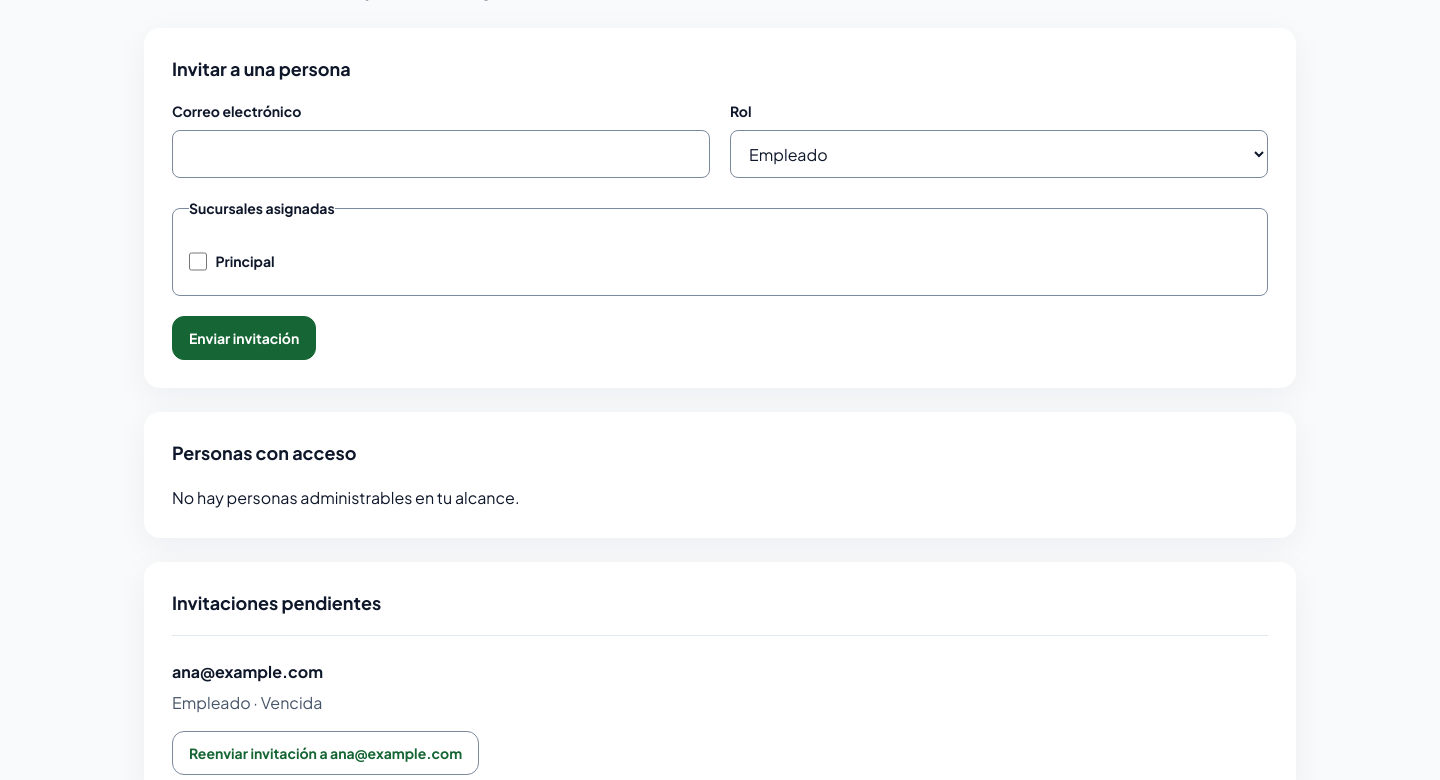
Scenario: lets a manager resend an expired invitation and announces the old-link invalidation
(page scrolled)
Expected: the text "Empleado · Vencida" is shown, x1=172 y1=692 x2=322 y2=713
Step 1. Click the button "Reenviar invitación a ana@example.com" → (326,753), box x1=172 y1=731 x2=479 y2=775
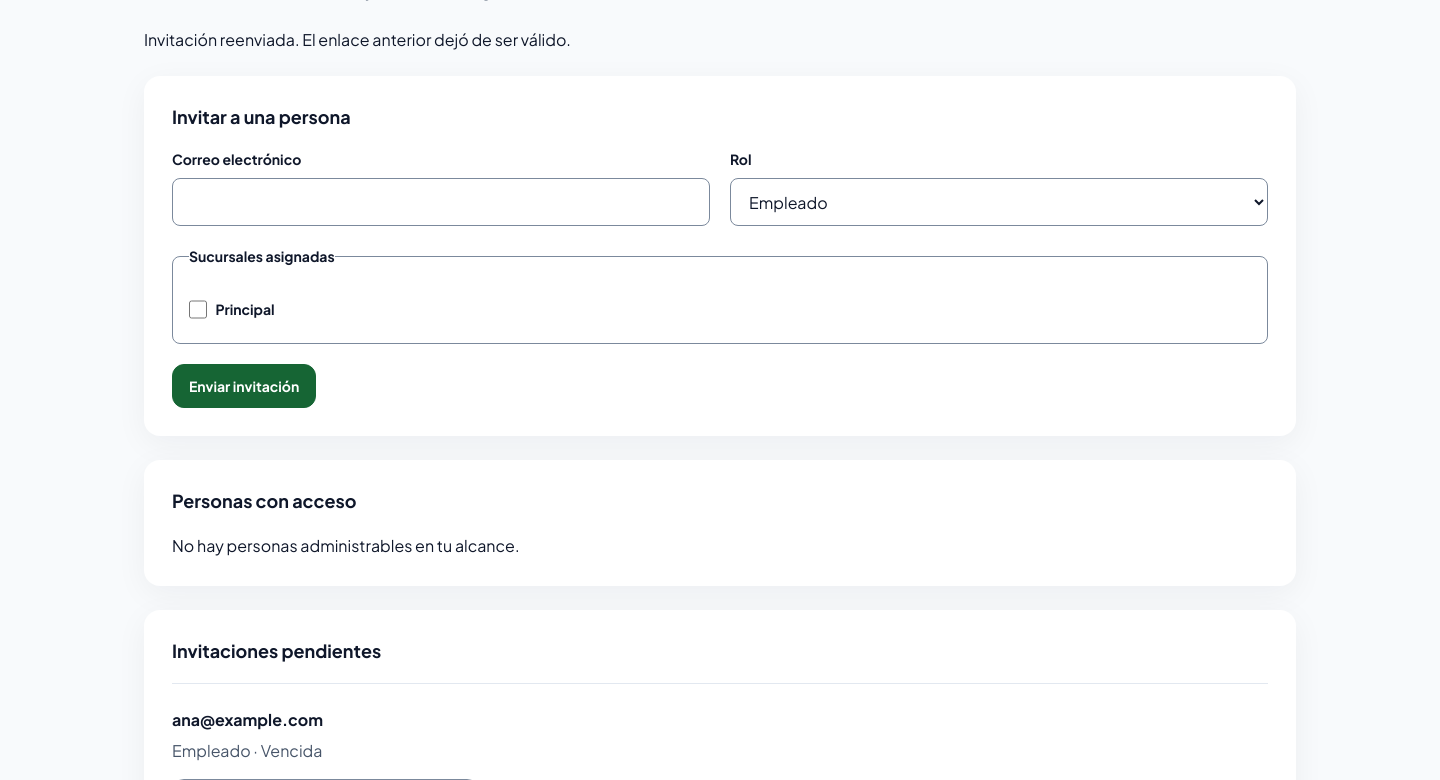
Now the message shows "El enlace anterior dejó de ser válido", box x1=144 y1=29 x2=571 y2=50
